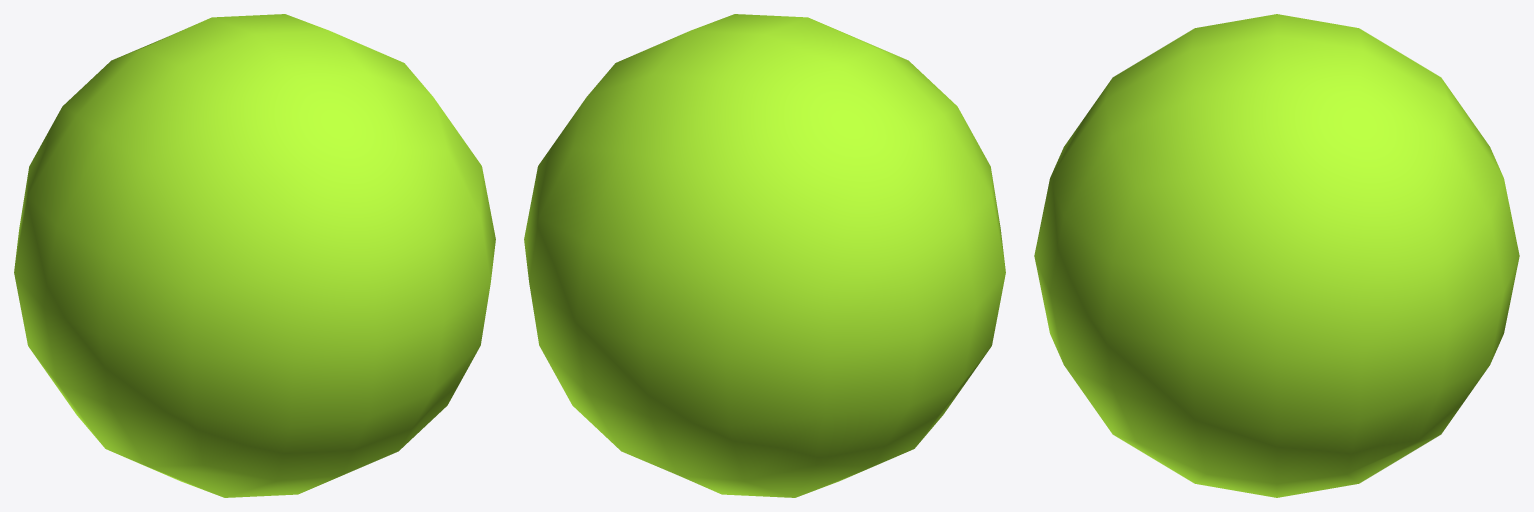
File: 10melon.glb
3 renders of one model, left to right at view 1: azimuth 30°, elevation 25°; view 2: azimuth 150°, elevation 25°; view 3: azimuth 270°, elevation 25°, orthographic.
Visible parts, largest first — view 1: 10-melon; view 2: 10-melon; view 3: 10-melon.
Boxes of the visible parts, box(x1,y1,x2,y2) form: 10-melon: box(14, 14, 495, 497); 10-melon: box(524, 14, 1005, 497); 10-melon: box(1034, 14, 1519, 497).
Size of the model in its own units: 12.6 by 12.6 by 12.6.
